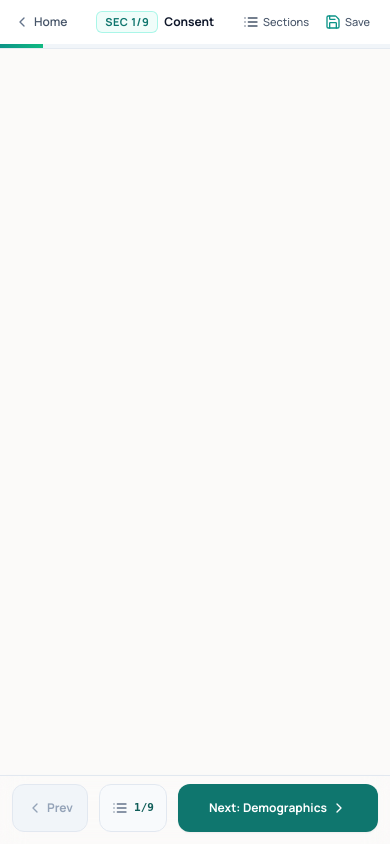
Test case: Mobile UX Refinement — KoboCollect-Style Mobile Experience › 2. MobileFormSectionRunner › opens Jump Drawer on "Jump to section" button click and shows "Jump to Section" heading
Click the button with aria-label "Jump to section" at [276, 22], box x1=237 y1=8 x2=315 y2=36
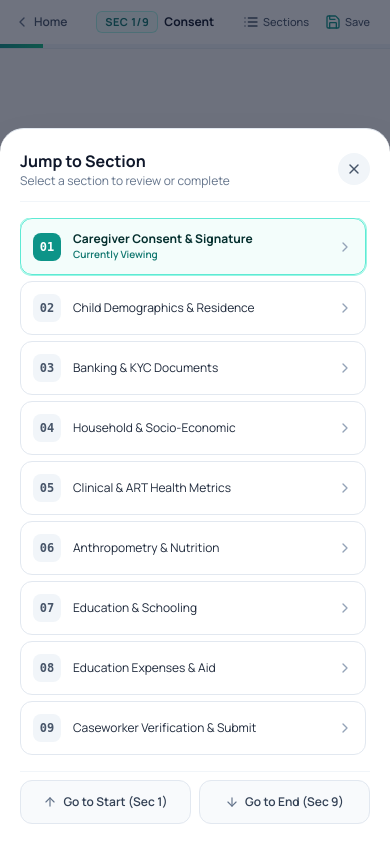
Result: the heading "Jump to Section" is shown at x1=20 y1=150 x2=146 y2=172
